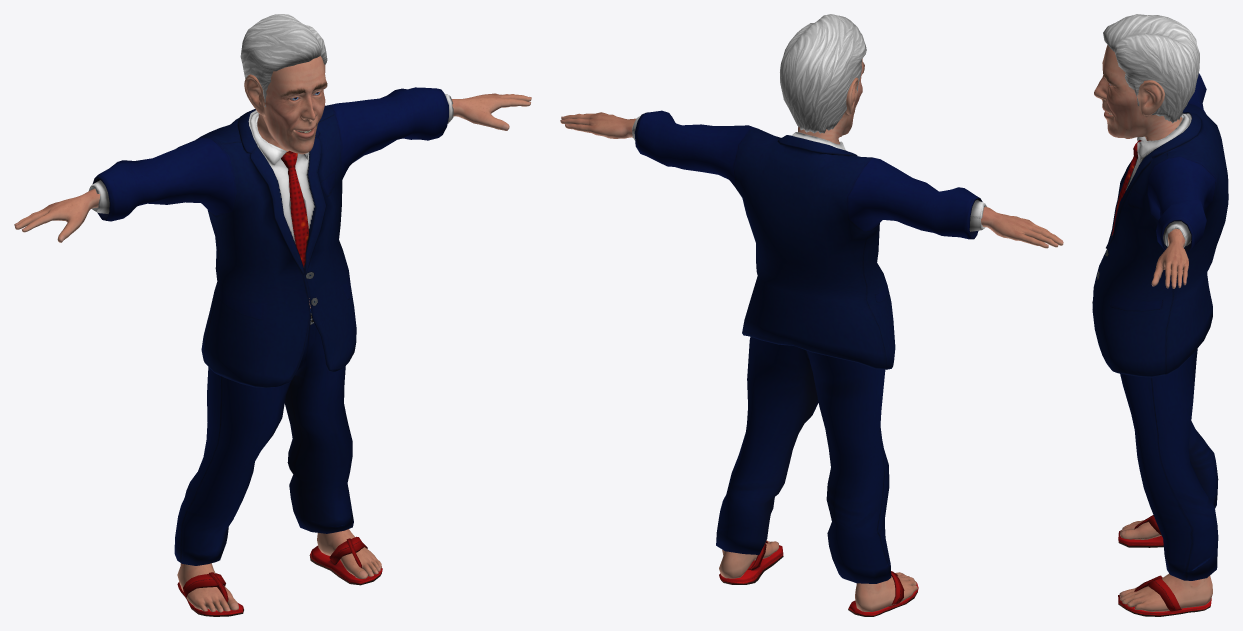
File: George Push.obj
3 views of the same model, side by side, from view 1: azimuth 30°, elevation 25°; view 2: azimuth 150°, elevation 25°; view 3: azimuth 270°, elevation 25° (orthographic). The views are drawn at different scales.
Parts seen in each view (by area): view 1: Tops, Bottoms, Body, Hair, Shoes; view 2: Tops, Bottoms, Hair, Body, Shoes; view 3: Tops, Bottoms, Body, Hair, Shoes.
Boxes of the visible parts, <box> form: Tops: <box>89,87,453,387</box>; Bottoms: <box>174,308,353,565</box>; Body: <box>14,56,531,612</box>; Hair: <box>240,14,327,114</box>; Shoes: <box>177,536,382,616</box>; Tops: <box>632,110,986,369</box>; Bottoms: <box>716,337,891,583</box>; Hair: <box>780,14,866,133</box>; Body: <box>560,59,1063,611</box>; Shoes: <box>719,541,918,616</box>; Tops: <box>1092,73,1228,377</box>; Bottoms: <box>1120,348,1218,580</box>; Body: <box>1094,45,1212,611</box>; Hair: <box>1103,14,1199,123</box>; Shoes: <box>1118,515,1211,616</box>.
Size of the model in its own units: 141 by 149 by 32.97.
Materials: 5 (5 with a texture image).
